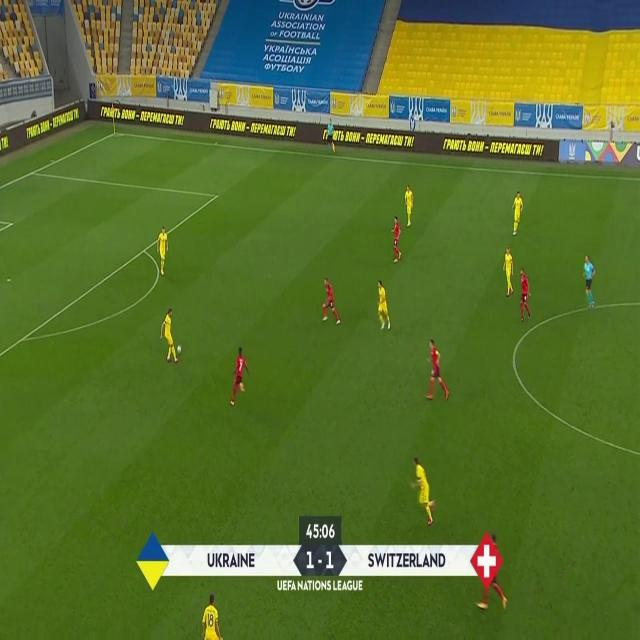ball: (176, 343, 182, 356)
player: (410, 457, 436, 525), (424, 338, 450, 402), (199, 587, 228, 640), (228, 346, 252, 406), (160, 308, 178, 362), (322, 278, 340, 326), (376, 280, 392, 331), (582, 254, 596, 308), (519, 266, 532, 322), (503, 245, 515, 296), (158, 226, 170, 276), (391, 216, 403, 264), (512, 191, 524, 237), (402, 185, 414, 227), (326, 118, 336, 156)
